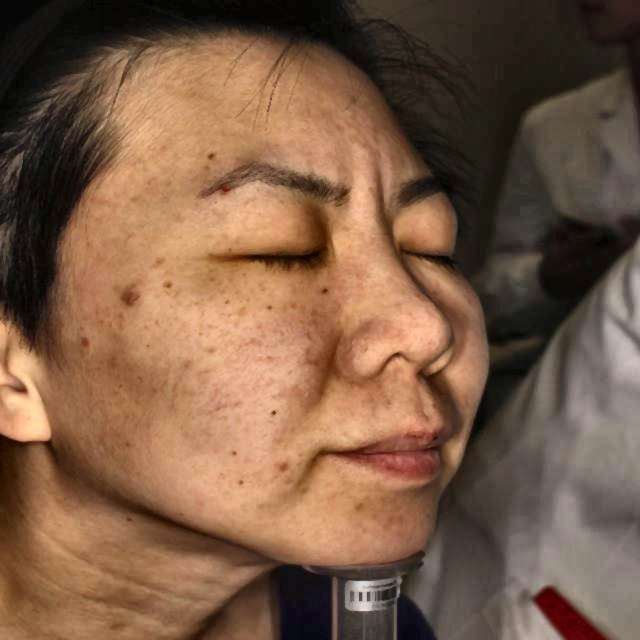comedone: (118, 288, 148, 314)
